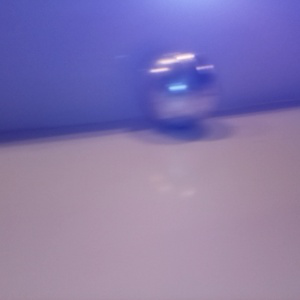alive_ball: (141, 50, 218, 128)
